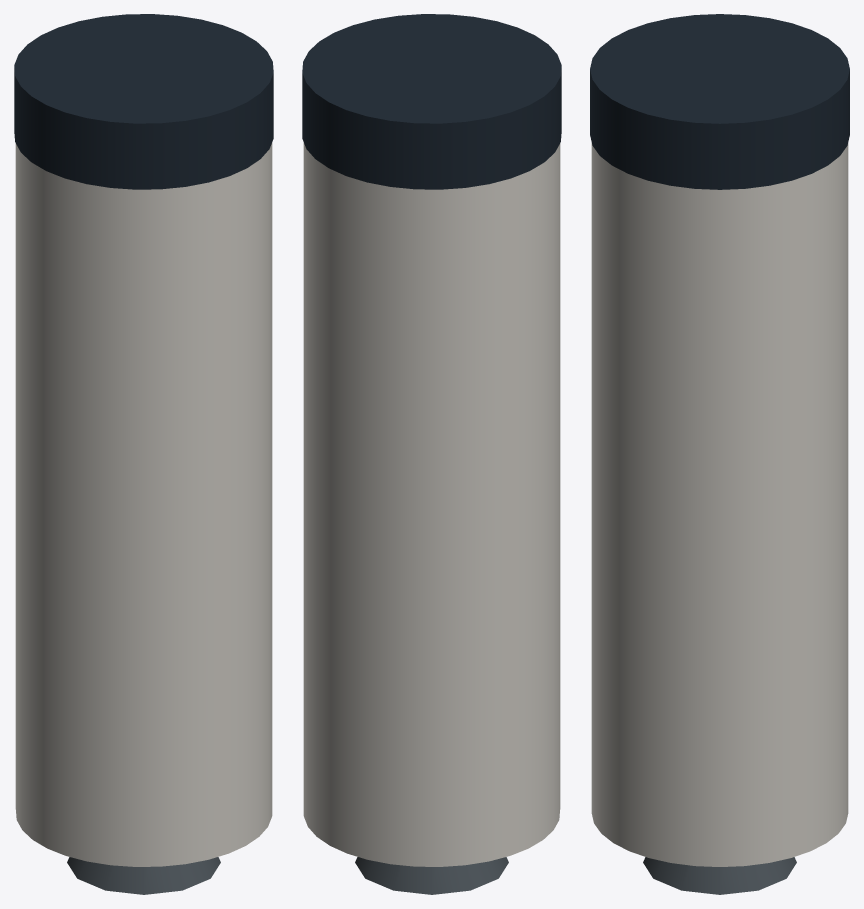
File: saturnv-stage-3.glb
The picture shows the model from 3 angles, left to right: view 1: azimuth 30°, elevation 25°; view 2: azimuth 150°, elevation 25°; view 3: azimuth 270°, elevation 25°; orthographic projection.
Parts seen in each view (by area): view 1: body-2, interstage-2, engine-2-0; view 2: body-2, interstage-2, engine-2-0; view 3: body-2, interstage-2, engine-2-0.
Boxes of the visible parts, <box> form: body-2: <box>15,142,272,866</box>; interstage-2: <box>14,14,273,189</box>; engine-2-0: <box>67,857,220,894</box>; body-2: <box>303,142,560,866</box>; interstage-2: <box>302,14,561,189</box>; engine-2-0: <box>355,857,508,894</box>; body-2: <box>591,143,848,866</box>; interstage-2: <box>590,14,849,189</box>; engine-2-0: <box>643,857,796,894</box>.
Size of the model in its own units: 6.72 by 22.63 by 6.72.
